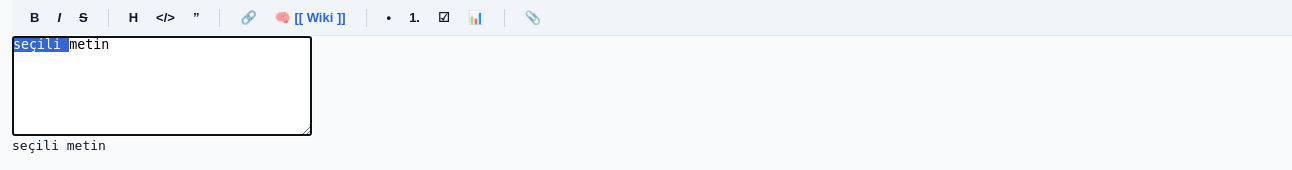
Test: MarkdownToolbar › wraps selected text in bold markers on button click
Click the button titled "Kalın (Bold) - **metin**": (35, 18) [22,6,47,29]
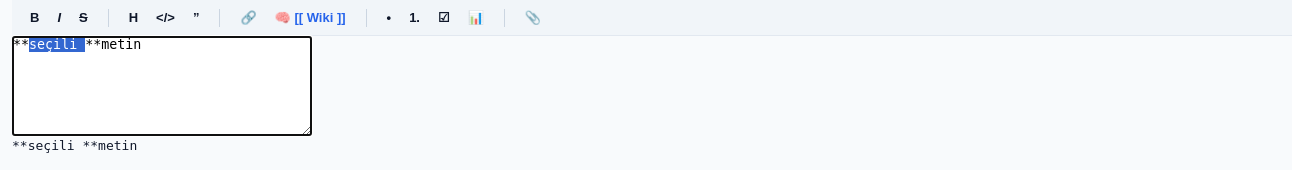
expect the text with test id "content-display" reads "**seçili **metin": met, box [12,138,137,153]
